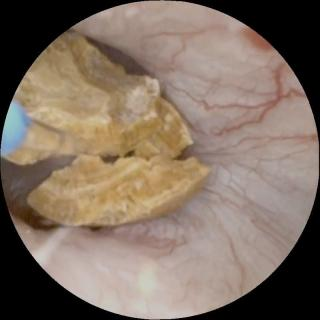fiber: (2, 103, 25, 155)
stone: (10, 39, 209, 225)
tissue: (45, 7, 315, 314)
